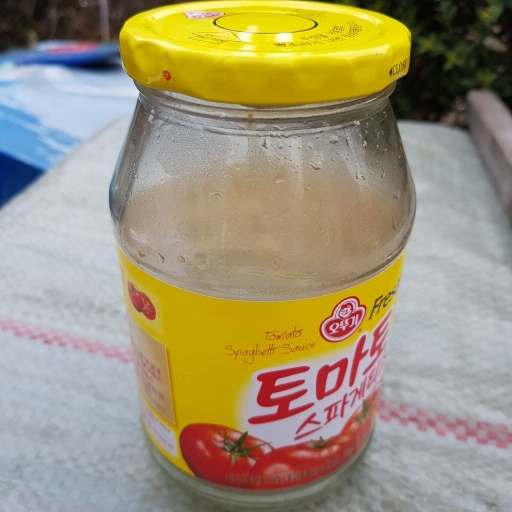Glass_5: (110, 1, 421, 491)
